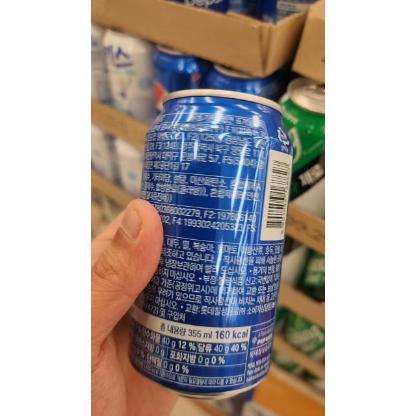Can: (126, 89, 294, 402)
